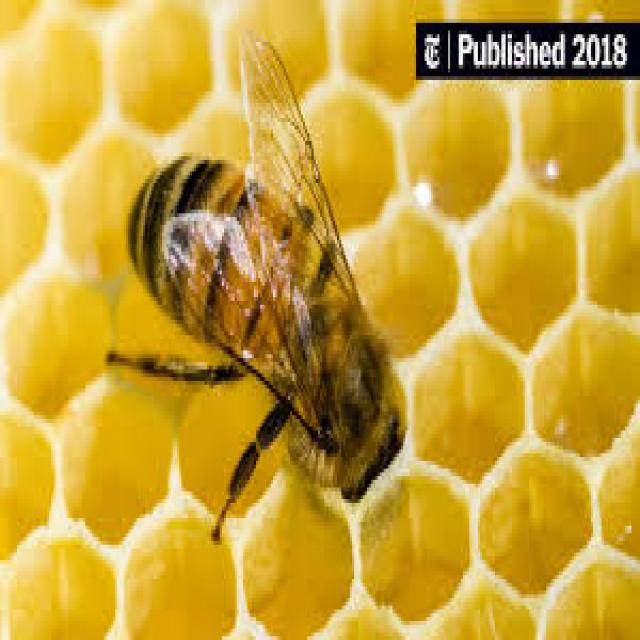Bees: (105, 28, 411, 540)
